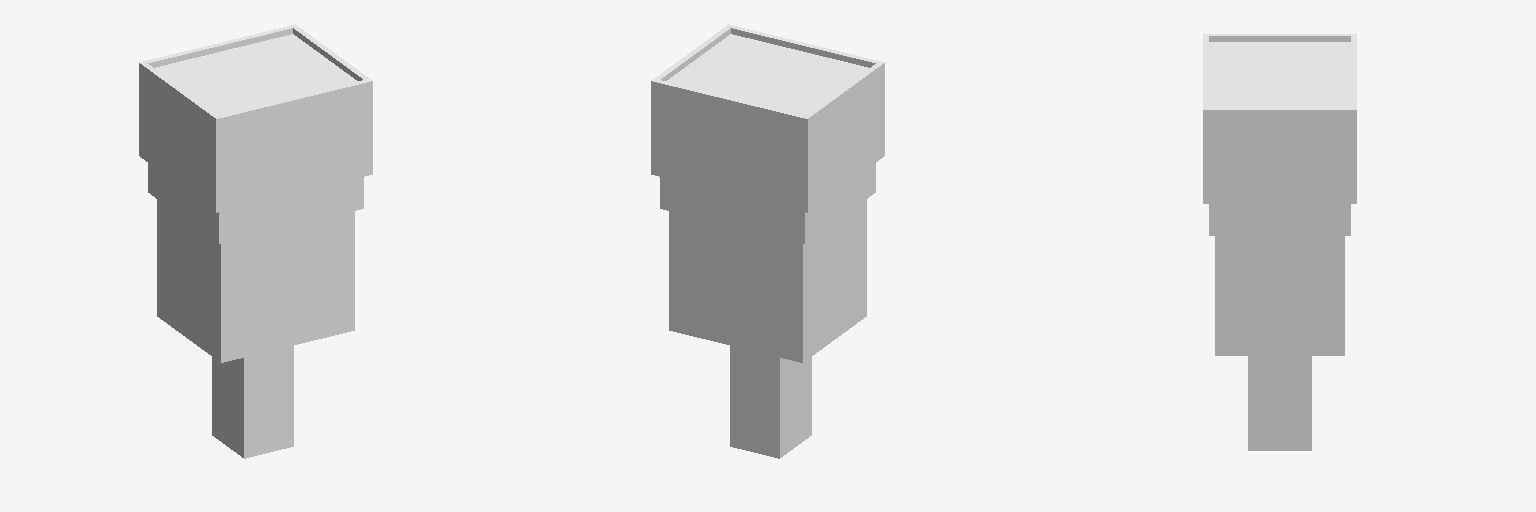
The model's file is ogre-0.obj.
The picture shows the model from 3 angles: view 1: azimuth 30°, elevation 25°; view 2: azimuth 150°, elevation 25°; view 3: azimuth 270°, elevation 25°; orthographic projection.
Visible parts, largest first — view 1: object 1; view 2: object 1; view 3: object 1.
Boxes of the visible parts, x1=… form: object 1: x1=139, y1=24, x2=372, y2=458; object 1: x1=651, y1=24, x2=884, y2=458; object 1: x1=1203, y1=34, x2=1356, y2=450.
Bounding box in the file's own units: 5.6 × 12.6 × 4.8.